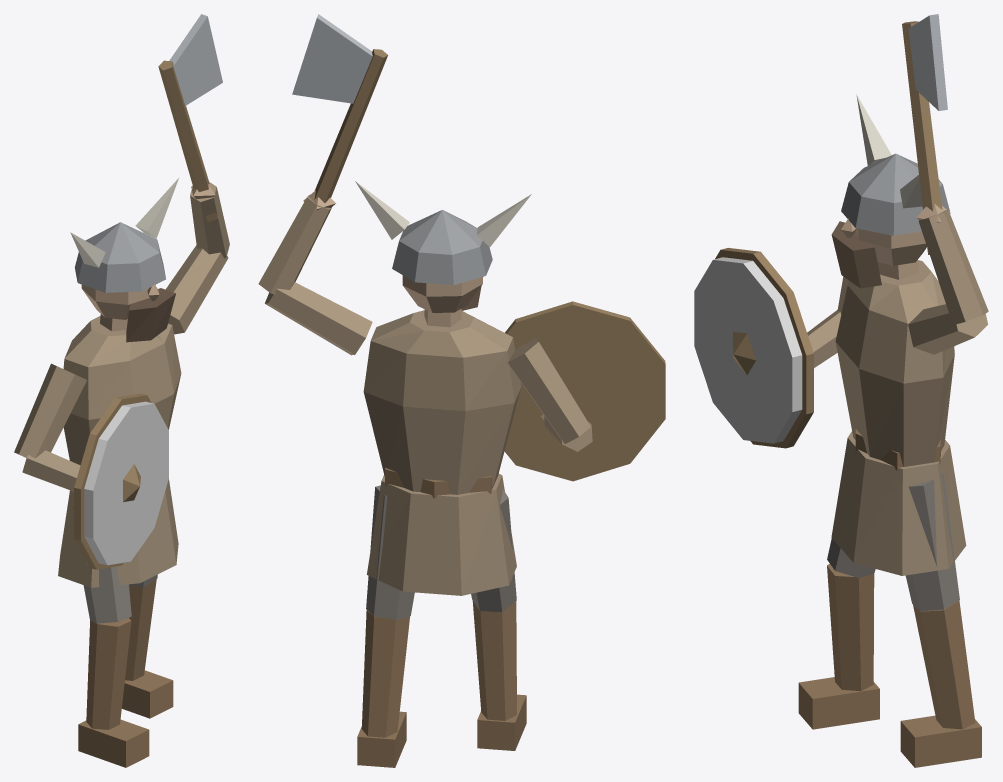
The model's file is berserker.glb.
3 views of the same model, side by side, from view 1: azimuth 30°, elevation 25°; view 2: azimuth 150°, elevation 25°; view 3: azimuth 270°, elevation 25° (orthographic). The views are drawn at different scales.
Visible parts, largest first — view 1: LOD0; view 2: LOD0; view 3: LOD0.
Part boxes in pixels (left/top/right/bottom): LOD0: left=14, top=14, right=229, bottom=767; LOD0: left=258, top=14, right=665, bottom=767; LOD0: left=694, top=14, right=988, bottom=767.
Size of what is drawn, in the model's own units: 0.547 by 1.32 by 0.4537.
